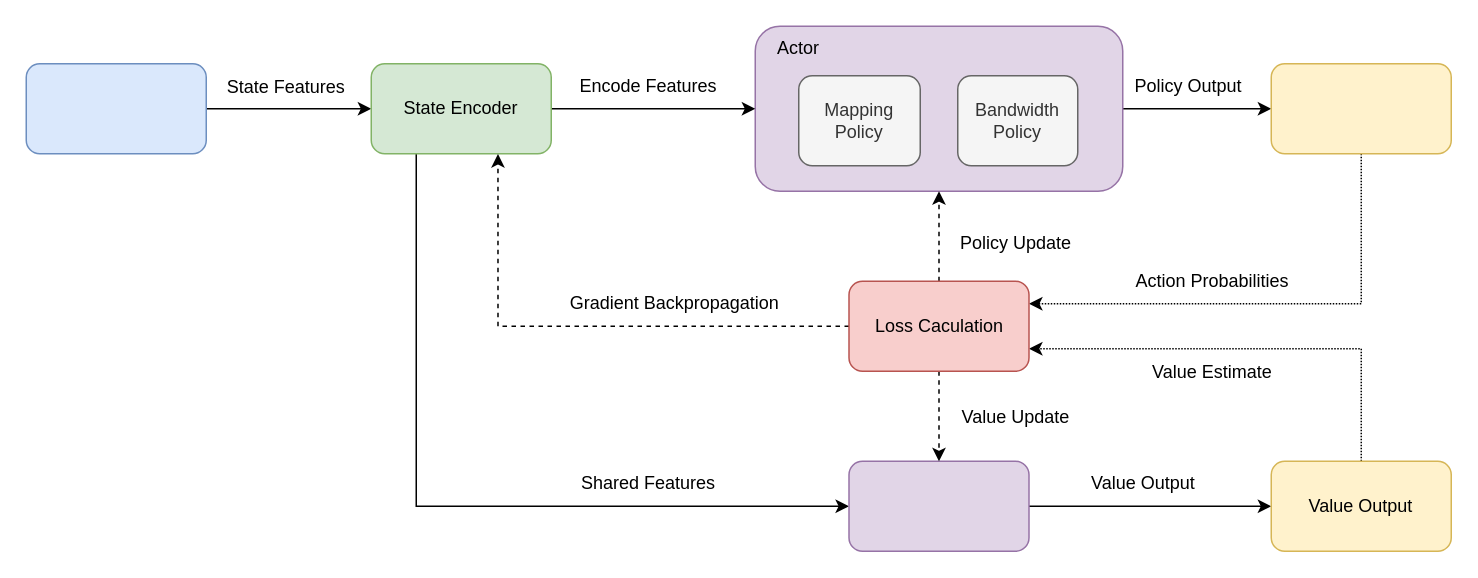
Image size: 1478x578. Some labels were removed from this diagram. Here are the shapes that lost their labels. From the top down, the centre of each, then its label:
point (115, 108): State Input
point (1360, 108): Action Output
point (938, 505): Critic
